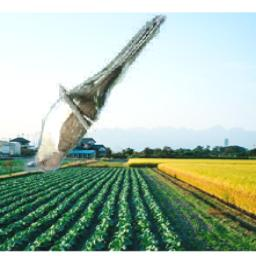Cuckoo: (21, 8, 168, 173)
